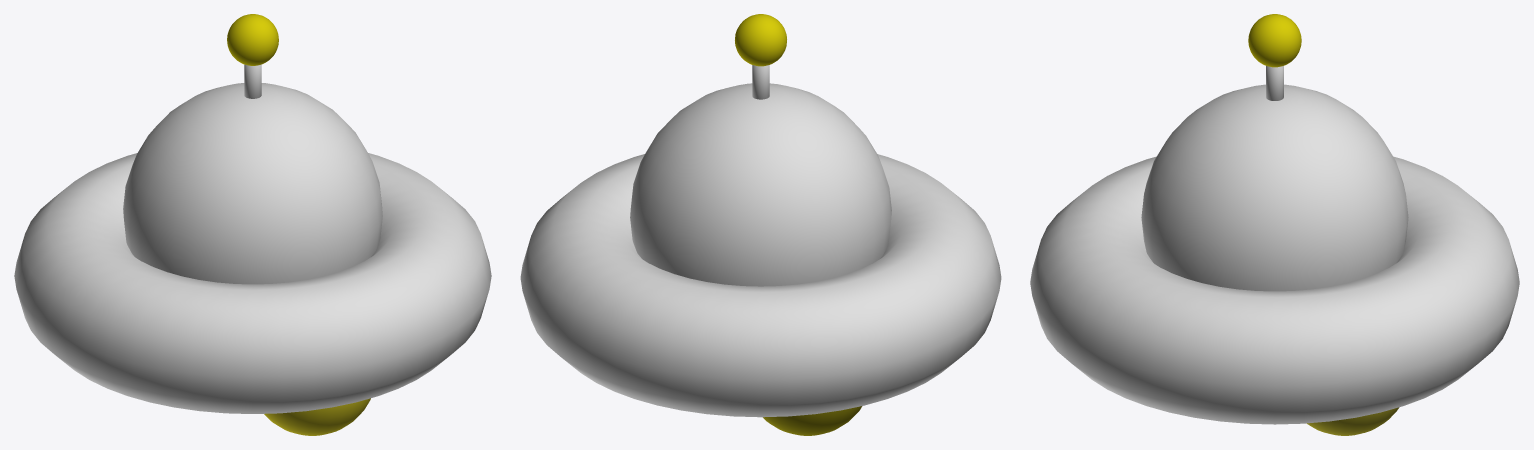
File: UFO.fbx
3 renders of one model, left to right at view 1: azimuth 30°, elevation 25°; view 2: azimuth 150°, elevation 25°; view 3: azimuth 270°, elevation 25°, orthographic. The views are drawn at different scales.
Parts seen in each view (by area): view 1: Torus.002, 球, 球.001, 球.003, 円柱; view 2: Torus.002, 球, 球.001, 球.004, 円柱; view 3: Torus.002, 球, 球.001, 球.002, 円柱.
Part boxes in pixels (bbox=[...]): Torus.002: bbox=[14, 153, 491, 413]; 球: bbox=[123, 83, 382, 284]; 球.001: bbox=[227, 14, 278, 65]; 球.003: bbox=[264, 398, 370, 435]; 円柱: bbox=[244, 64, 261, 98]; Torus.002: bbox=[520, 154, 1001, 417]; 球: bbox=[630, 83, 891, 286]; 球.001: bbox=[735, 14, 786, 66]; 球.004: bbox=[763, 406, 862, 435]; 円柱: bbox=[752, 65, 769, 99]; Torus.002: bbox=[1030, 156, 1519, 424]; 球: bbox=[1141, 84, 1408, 291]; 球.001: bbox=[1248, 14, 1301, 67]; 球.002: bbox=[1306, 407, 1399, 435]; 円柱: bbox=[1266, 66, 1283, 100].
Size of the model in its own units: 550 by 472 by 550.
